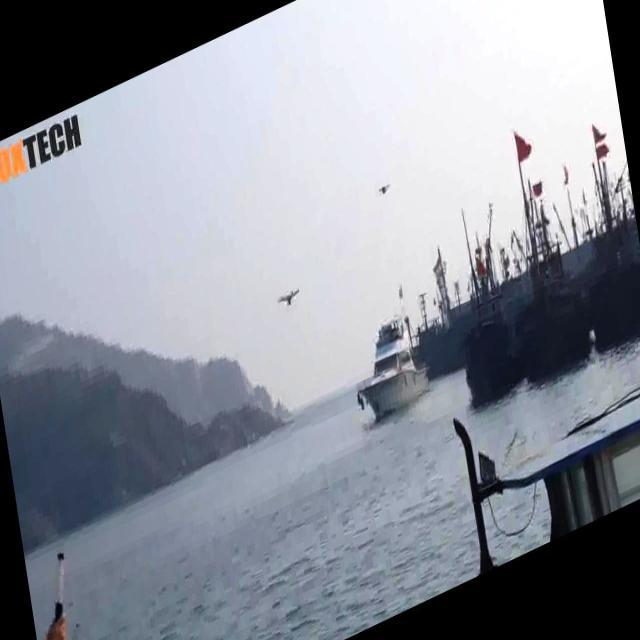drone: (276, 280, 304, 316), (376, 174, 396, 208)
